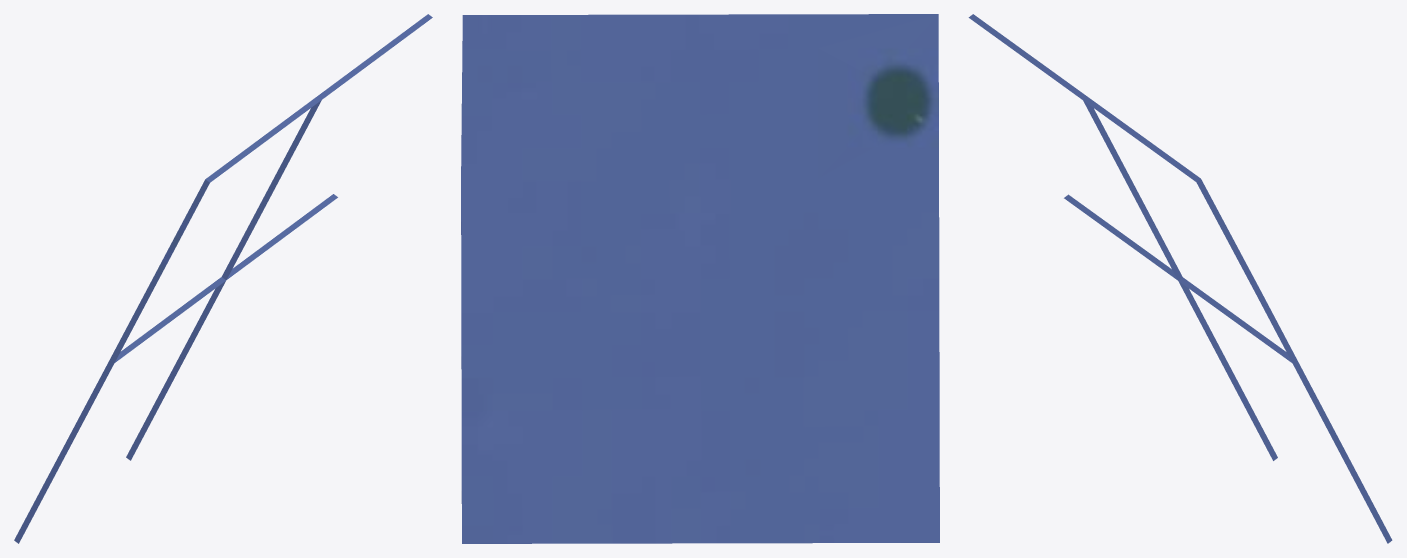
3 views of the same model, side by side, from view 1: azimuth 30°, elevation 25°; view 2: azimuth 150°, elevation 25°; view 3: azimuth 270°, elevation 25° (orthographic). The views are drawn at different scales.
Bounding box in the file's own units: 19693 × 17712 × 16579.
1 material, 1 textured.
